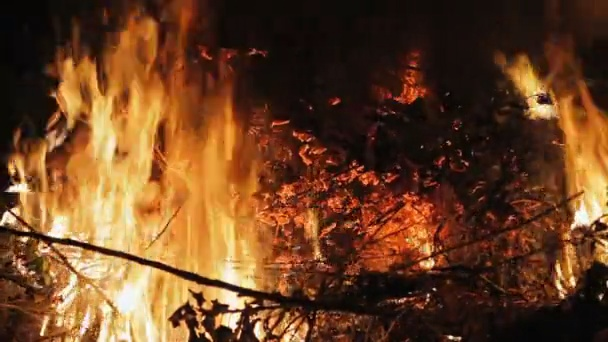fire: (3, 30, 253, 342), (555, 79, 608, 287), (513, 55, 557, 117)
